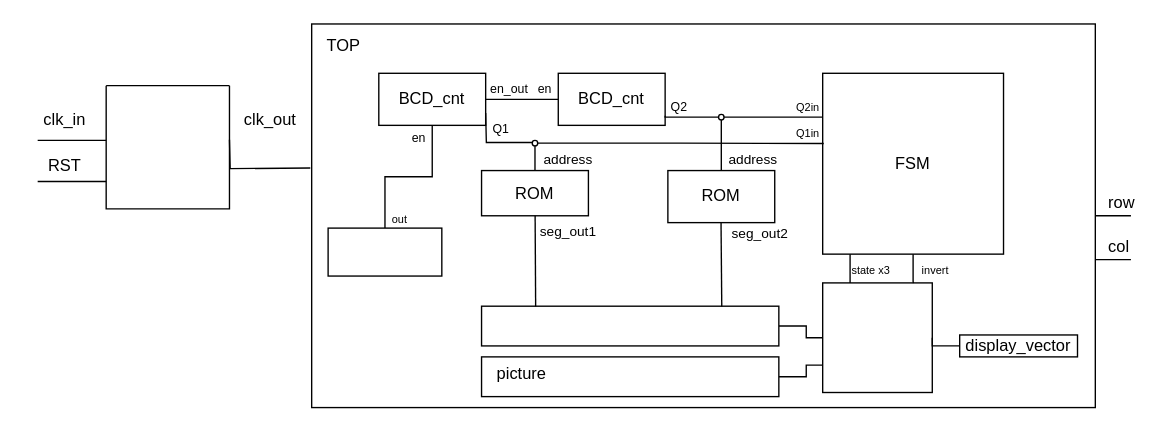
The diagram is 1169 pixels wide and 432 high, and some of its shapes have lost their labels. The centre of each missing label's shape, as x and y in pixels:
"clk_cnt_delay" belongs at pixel 384 251.
"CLK_WIZ" belongs at pixel 167 146.
"map_segments" belongs at pixel 629 325.
"MUX 6 to 1 CELLS x64" belongs at pixel 876 337.
